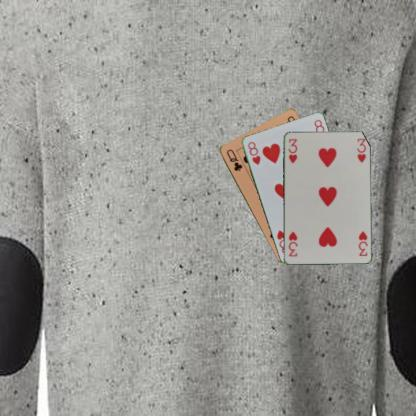3h: (356, 228, 369, 257), (286, 136, 298, 164)
8h: (245, 138, 262, 166)
Qc: (224, 146, 243, 172)
